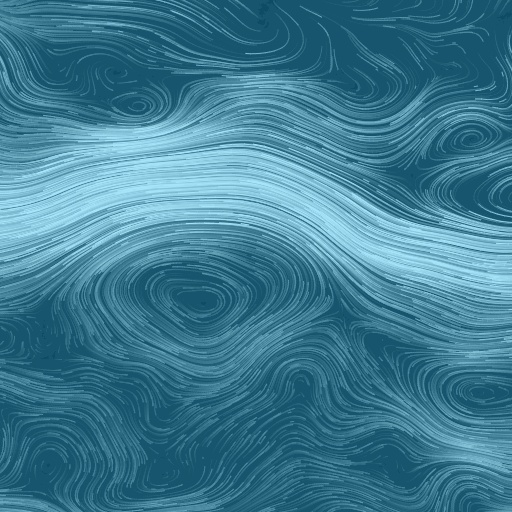eddy: (123, 250, 277, 346), (107, 89, 168, 123), (455, 374, 503, 406), (454, 124, 494, 153)
